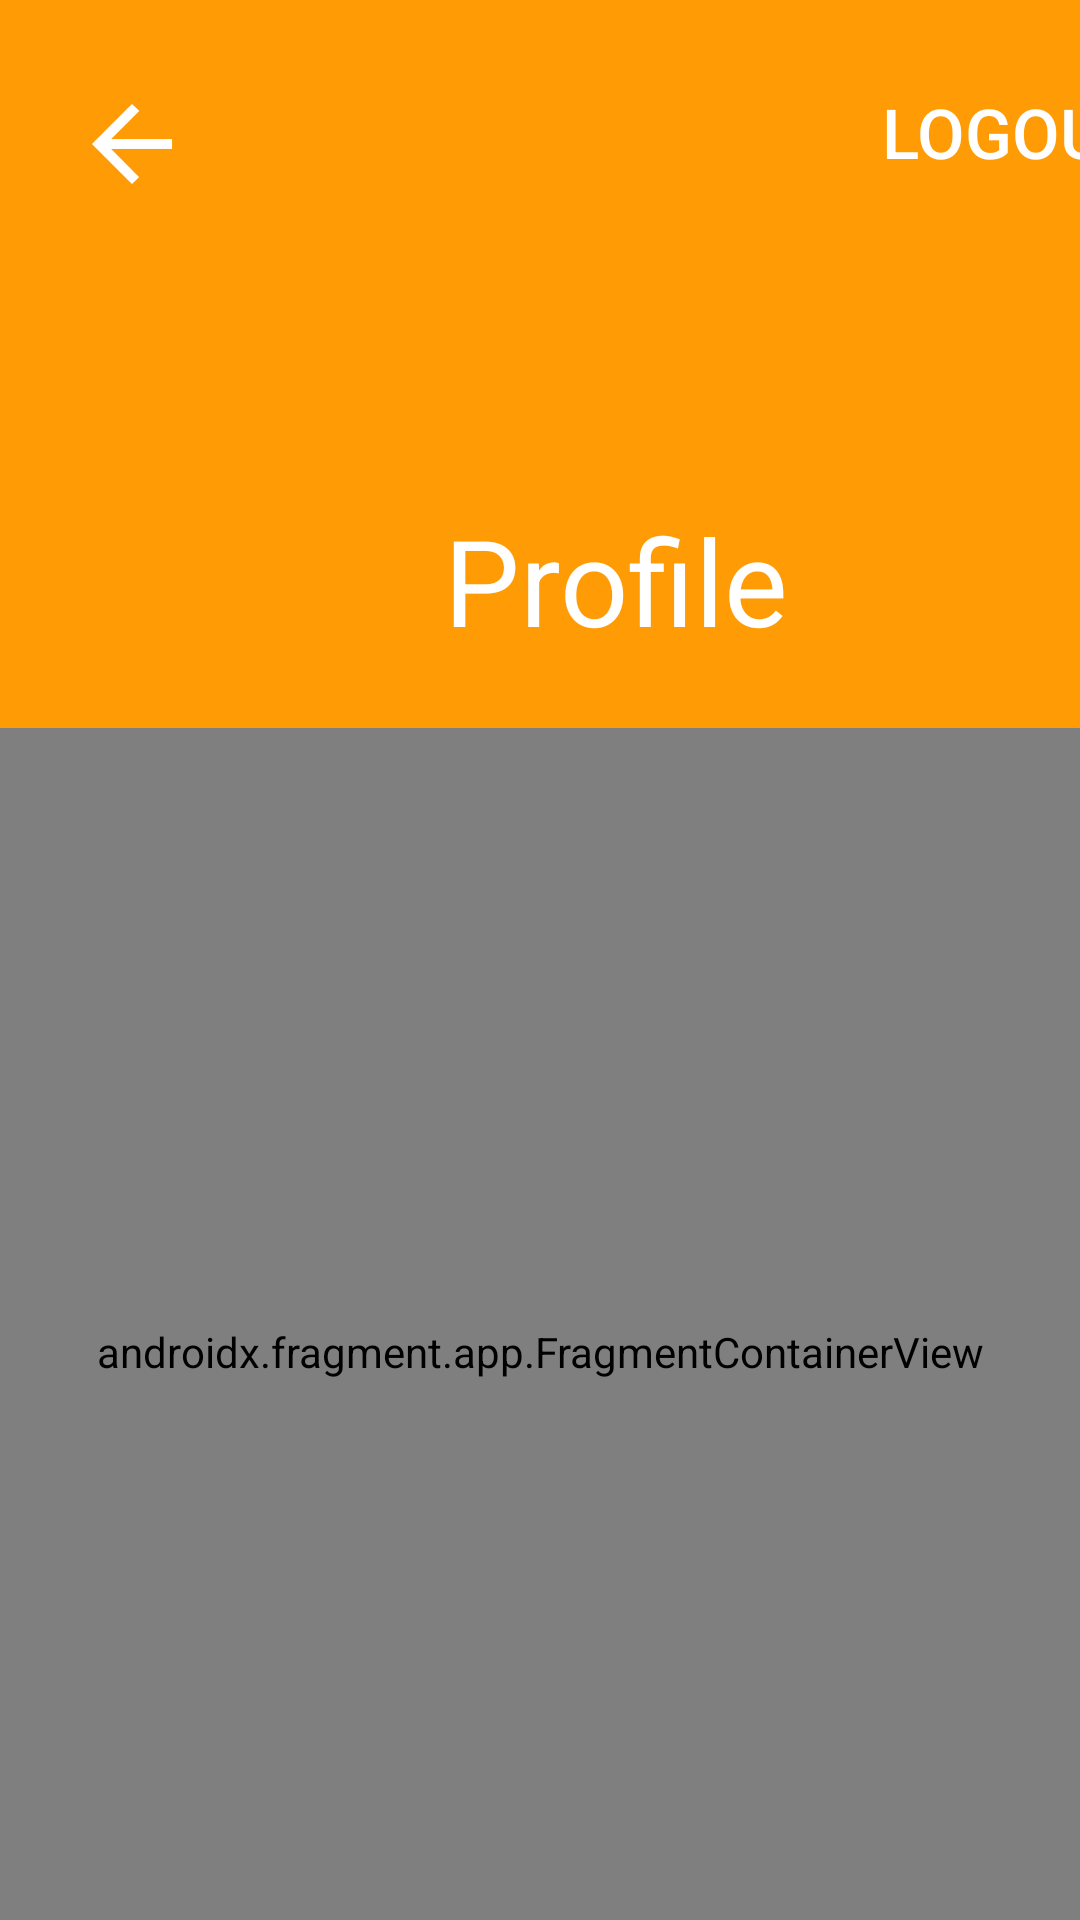

Icon click points for this 1080w x 1920h phone screenshot, format (x,y):
android arrow back: (132,144)
